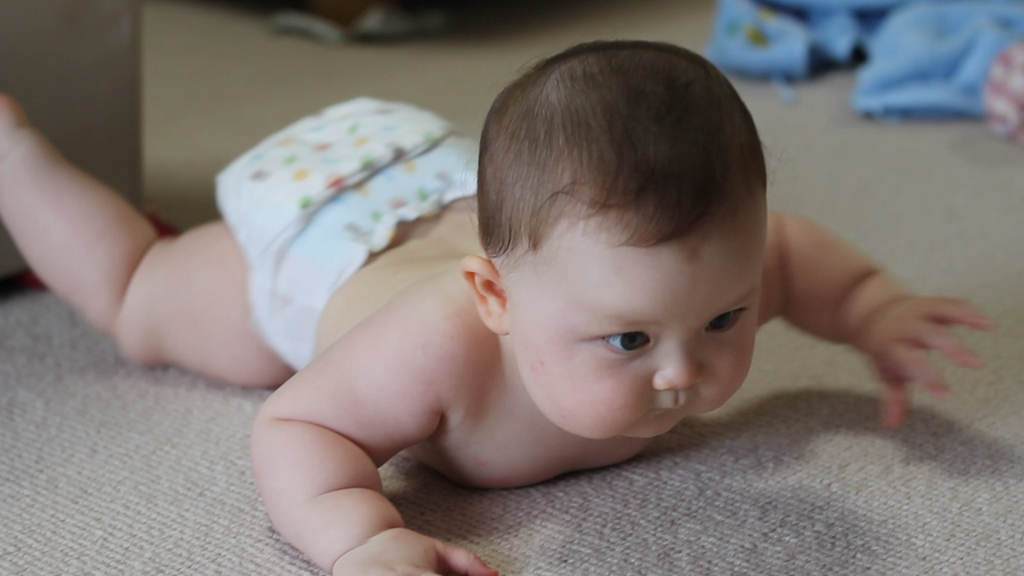Person: (0, 37, 998, 576)
